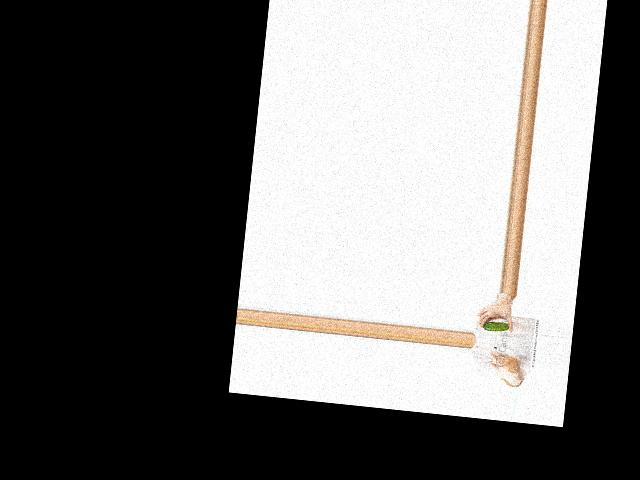cucumber: (482, 319, 510, 332)
